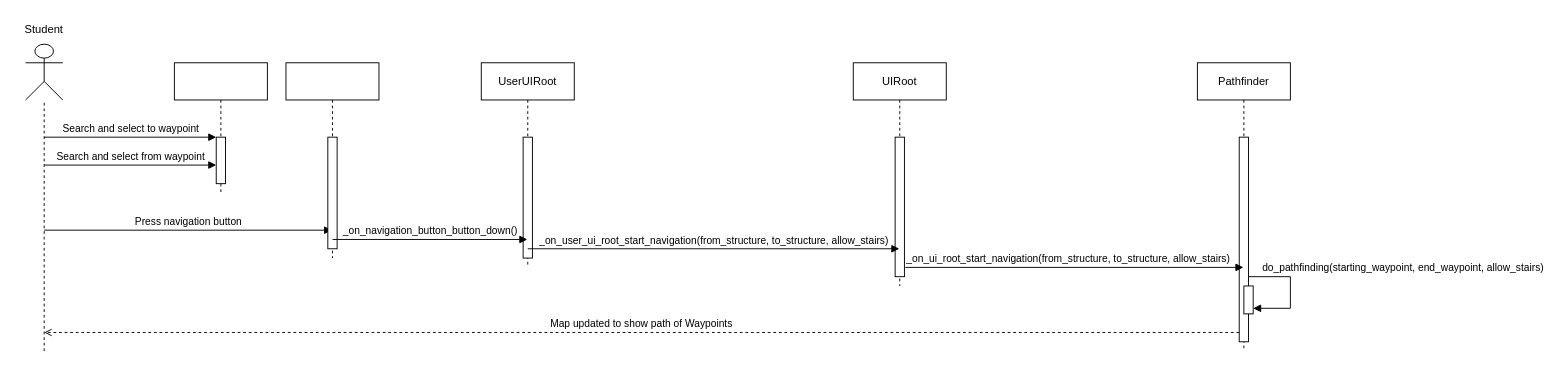
Some shapes in this 1559 by 368 pixel diagram are drawn without their labels. The centre of each missing label's shape, as x and y in pixels:
"NavigationButton" goes at (332,160).
"SearchPanel" goes at (220,127).
